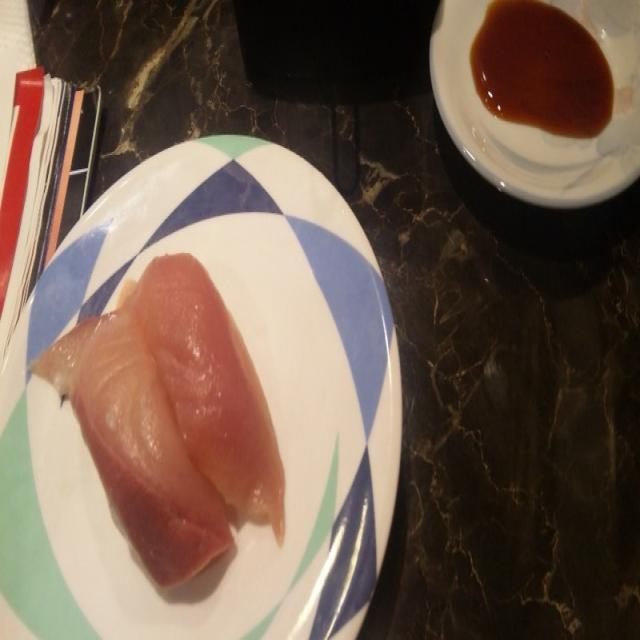Sushi: (54, 256, 288, 590)
